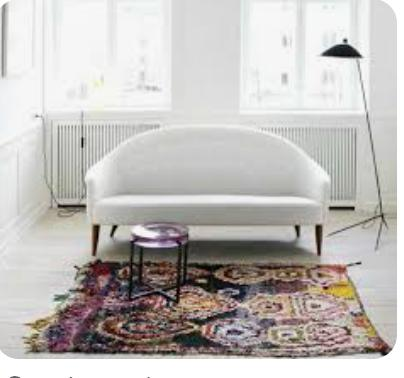carpet: (25, 258, 389, 358)
